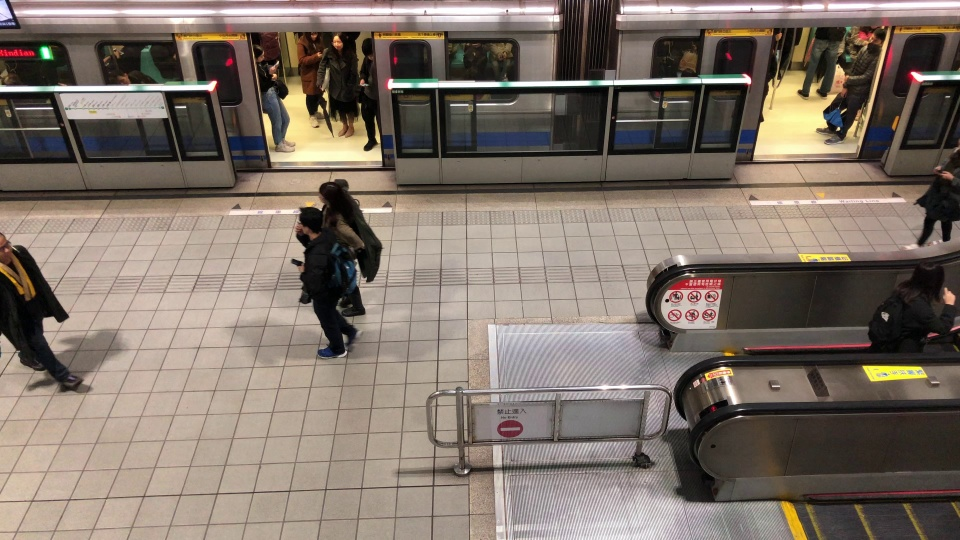person_head: (288, 205, 340, 257), (310, 188, 353, 222), (906, 262, 944, 299), (1, 232, 14, 260), (249, 43, 267, 63), (361, 37, 375, 62), (328, 32, 345, 52), (858, 27, 872, 47), (303, 28, 320, 44), (957, 140, 960, 145)
person_vbox: (276, 207, 363, 370), (1, 231, 83, 392), (318, 180, 390, 322), (865, 263, 956, 356), (815, 28, 882, 142), (903, 138, 960, 249), (247, 43, 295, 154), (316, 31, 360, 141), (289, 29, 327, 129), (355, 36, 385, 154), (799, 26, 838, 101)
